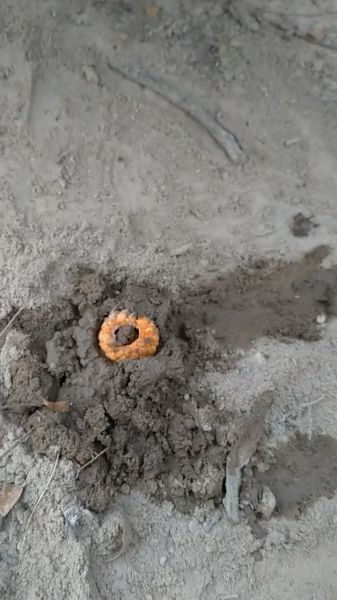eggs: (91, 301, 169, 371)
